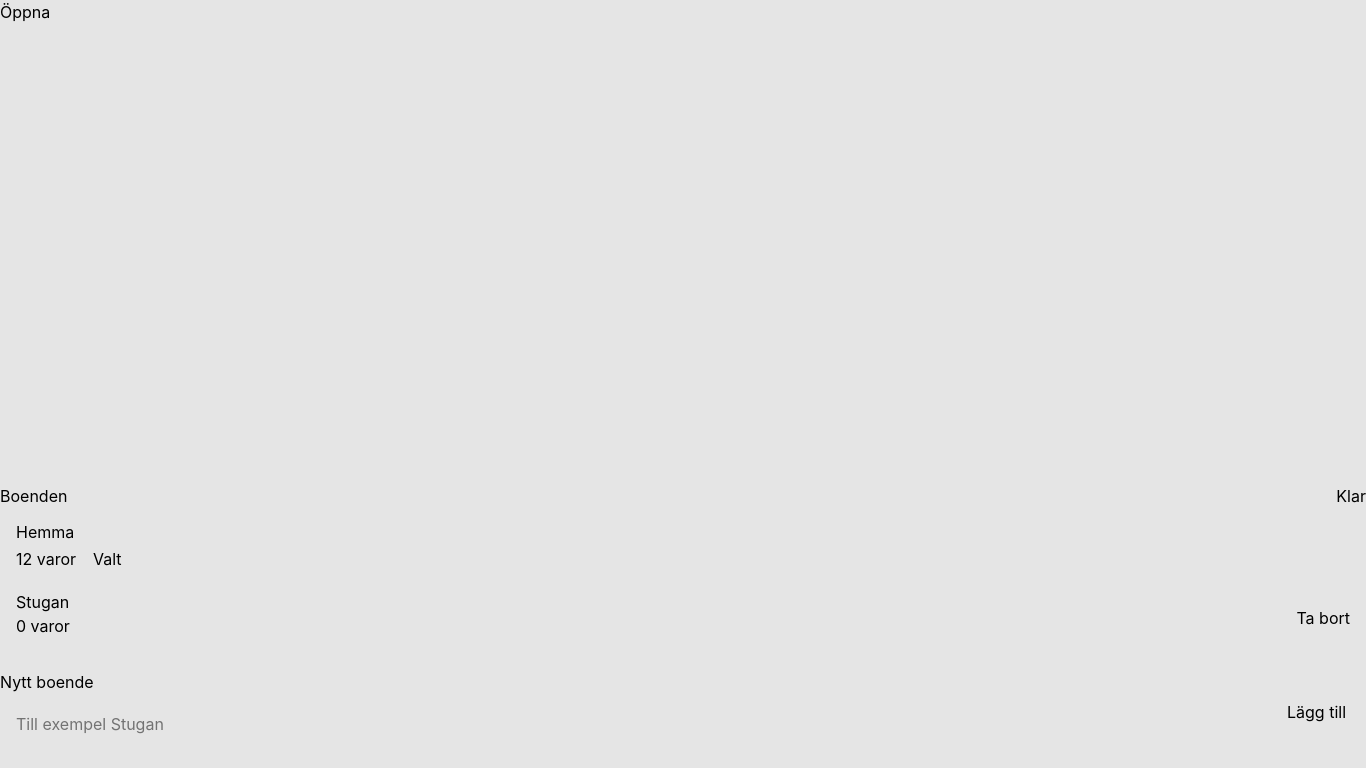
Test case: SitesSheet › leaves the name with Avbryt, and saves nothing for an unchanged name
The image size is (1366, 768).
Click the button with aria-label "Byt namn på Stugan": (43, 602) x1=16 y1=590 x2=69 y2=614
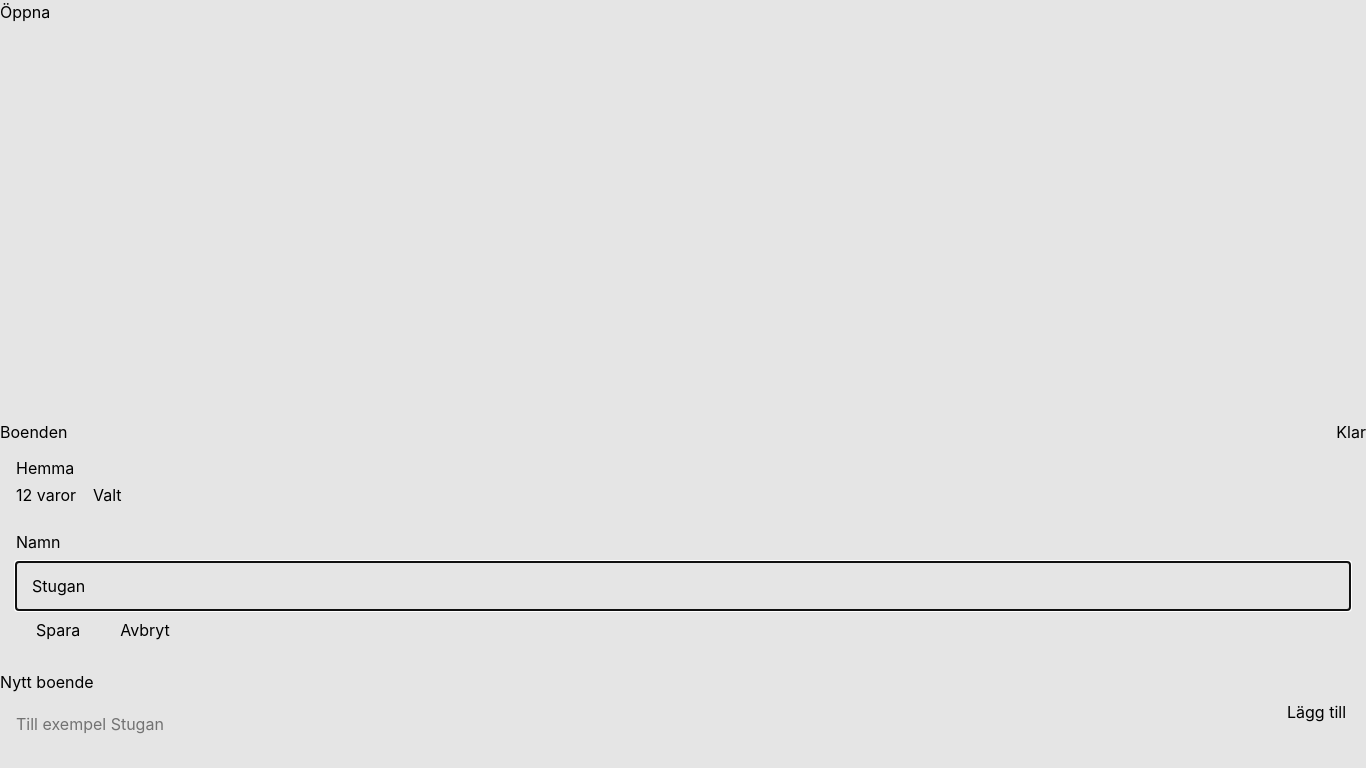
Click the button "Avbryt": (145, 630) x1=108 y1=618 x2=182 y2=642
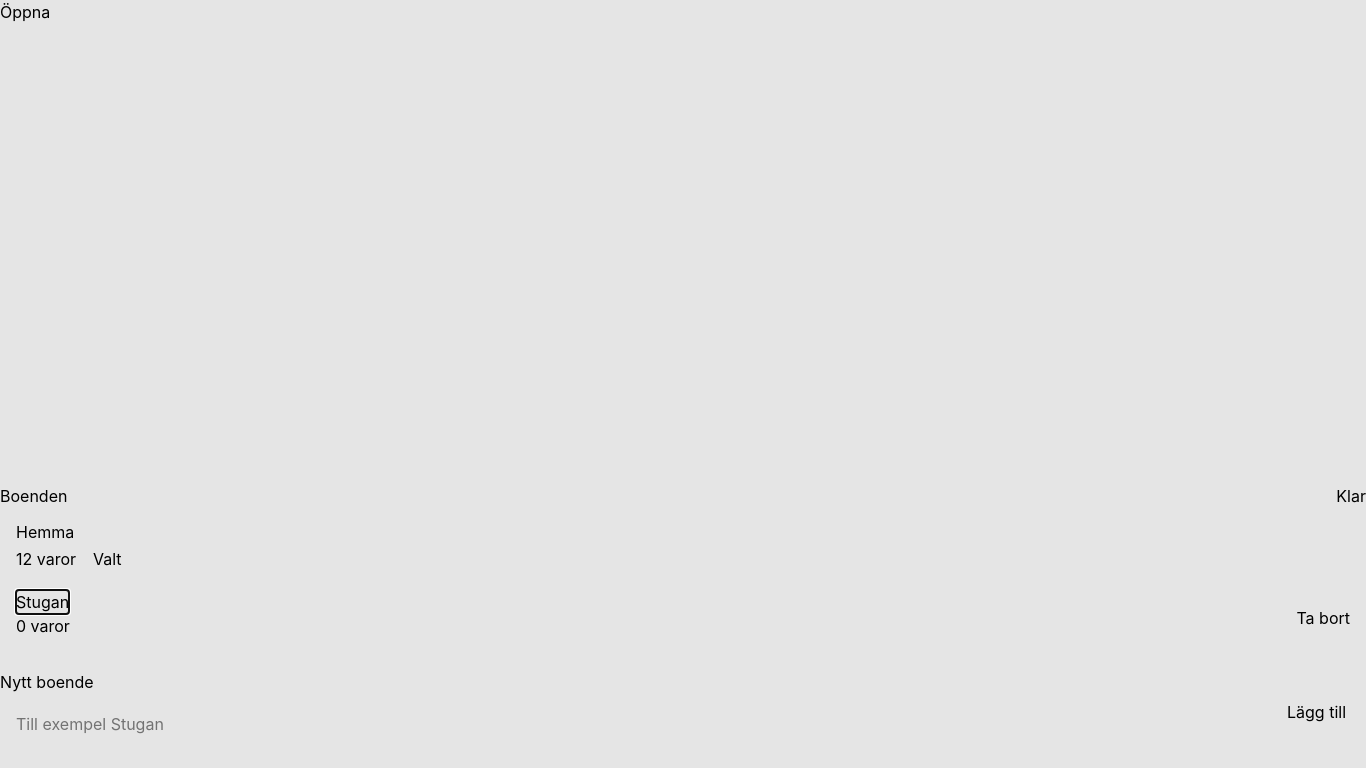
Expected: the label labelled "Namn" is gone
Click the button with aria-label "Byt namn på Hemma": (45, 532) x1=16 y1=520 x2=74 y2=544
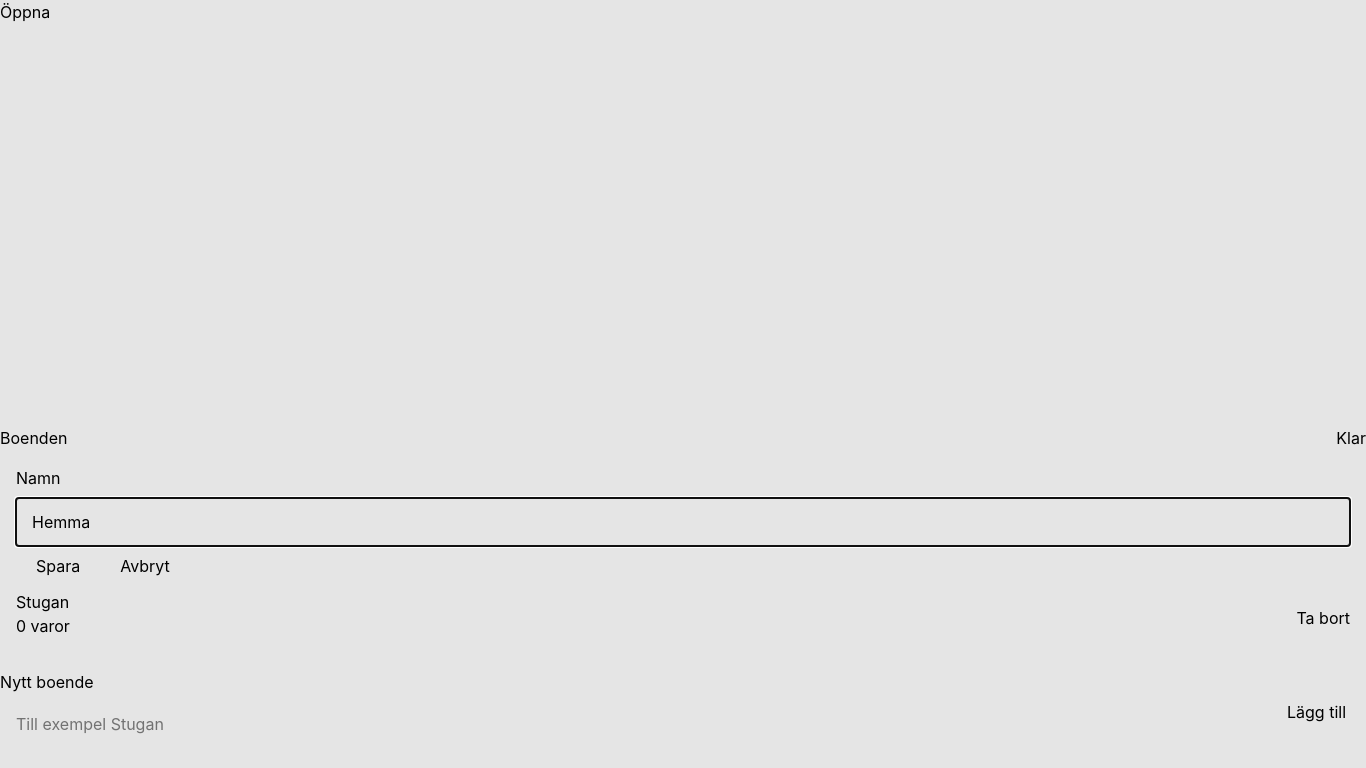
Click the button "Spara": (58, 566) x1=16 y1=554 x2=100 y2=578
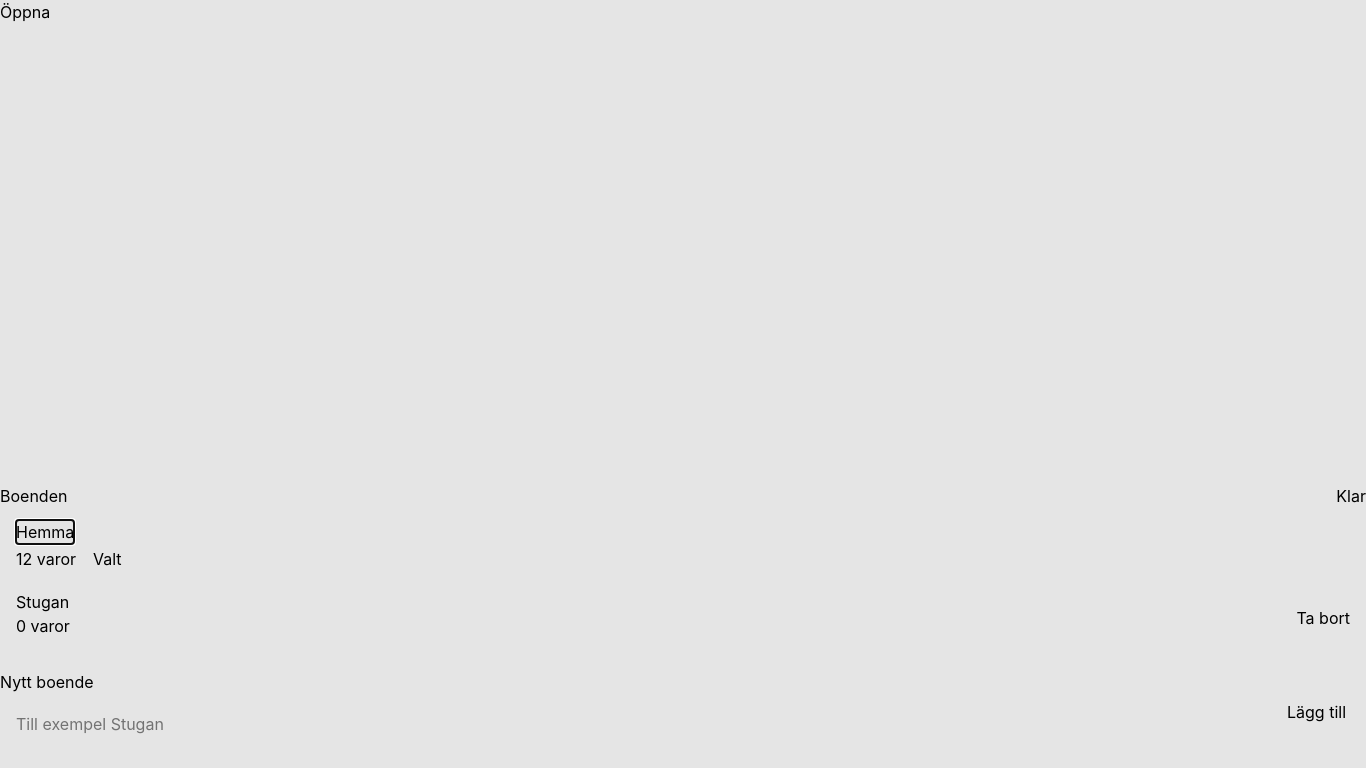
Expected: the label labelled "Namn" is gone
